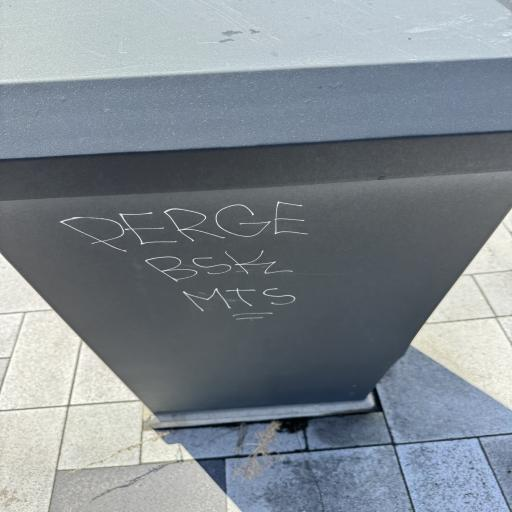Electrical Box: (0, 0, 512, 417)
